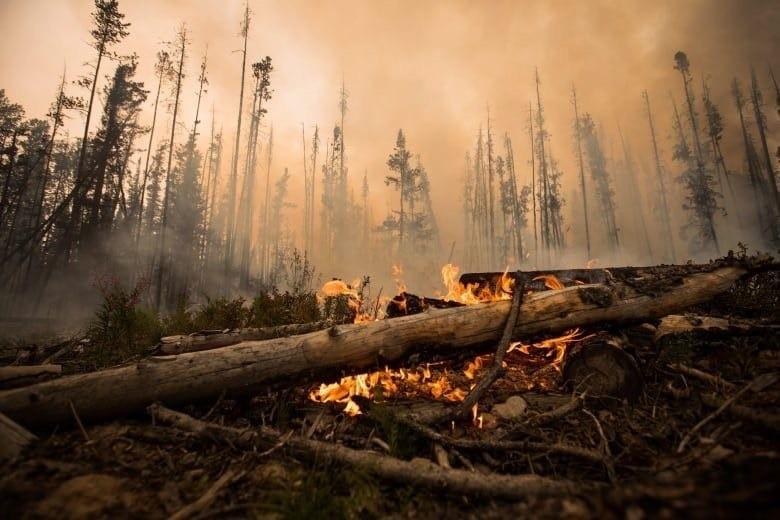fire: (311, 351, 563, 413), (311, 257, 515, 321)
